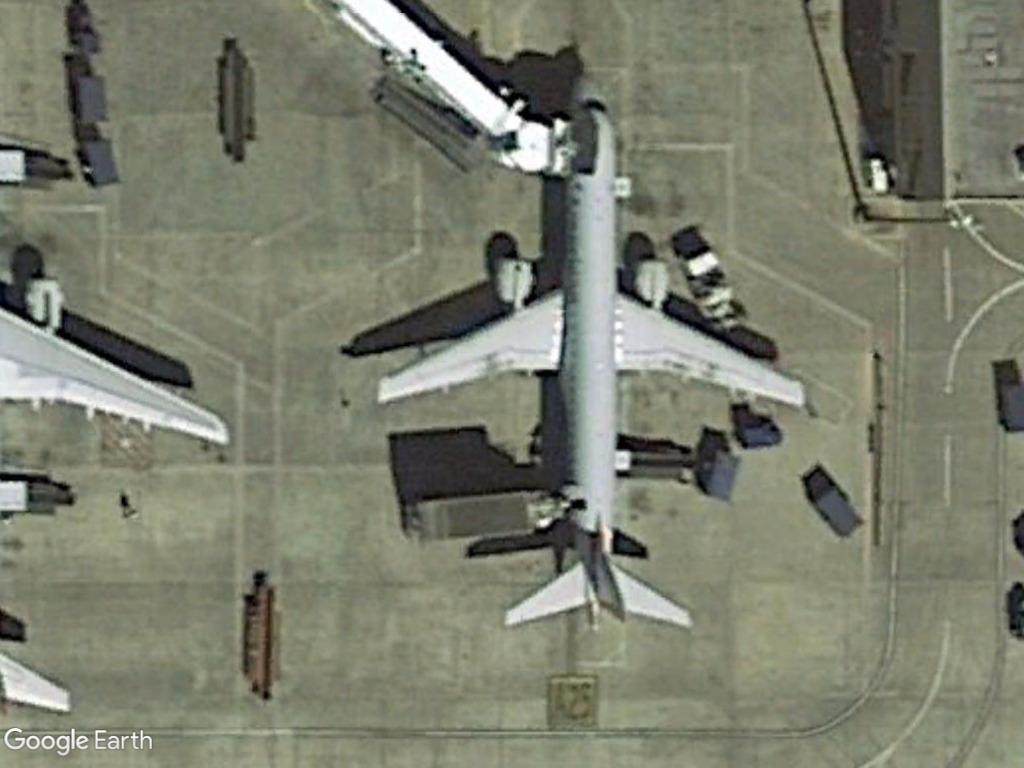airliner: (364, 73, 816, 634)
